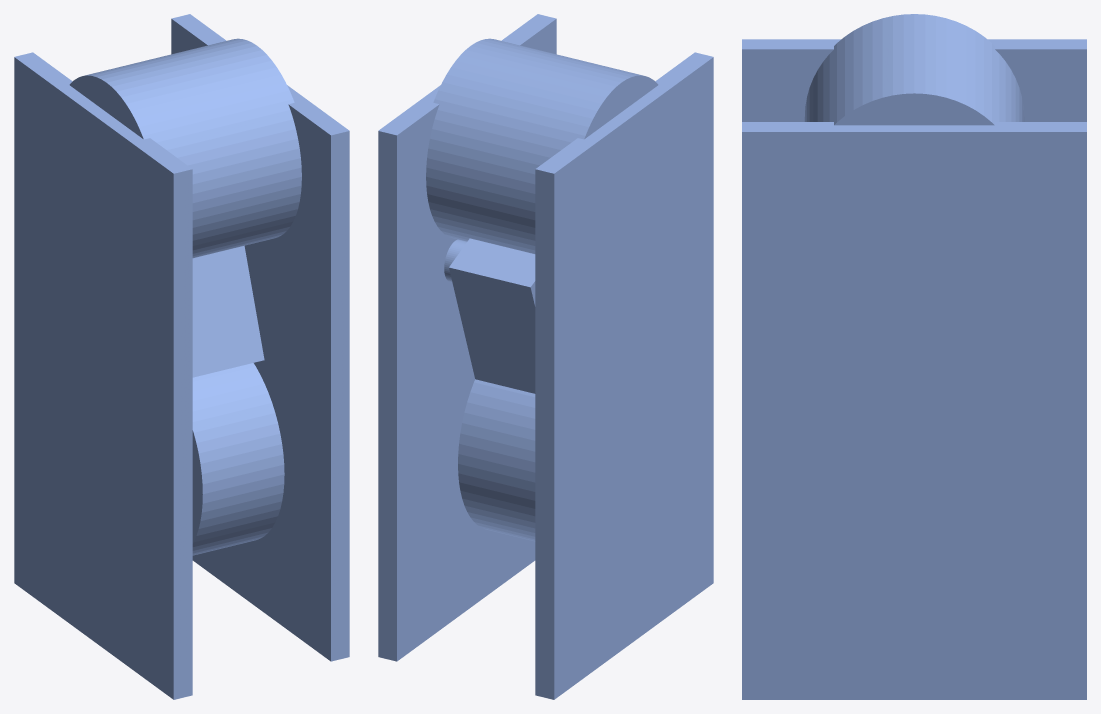
Rendered from pulley-system-80cae92c.glb.
3 views of the same model, side by side, from view 1: azimuth 30°, elevation 25°; view 2: azimuth 150°, elevation 25°; view 3: azimuth 270°, elevation 25° (orthographic). The views are drawn at different scales.
Parts seen in each view (by area): view 1: output; view 2: output; view 3: output.
Part boxes in pixels (x1,y1,x2,y2): output: (14,14,349,699); output: (378,14,713,699); output: (742,14,1086,699).
Size of the model in its own units: 0.7622 by 2.3 by 1.2.
